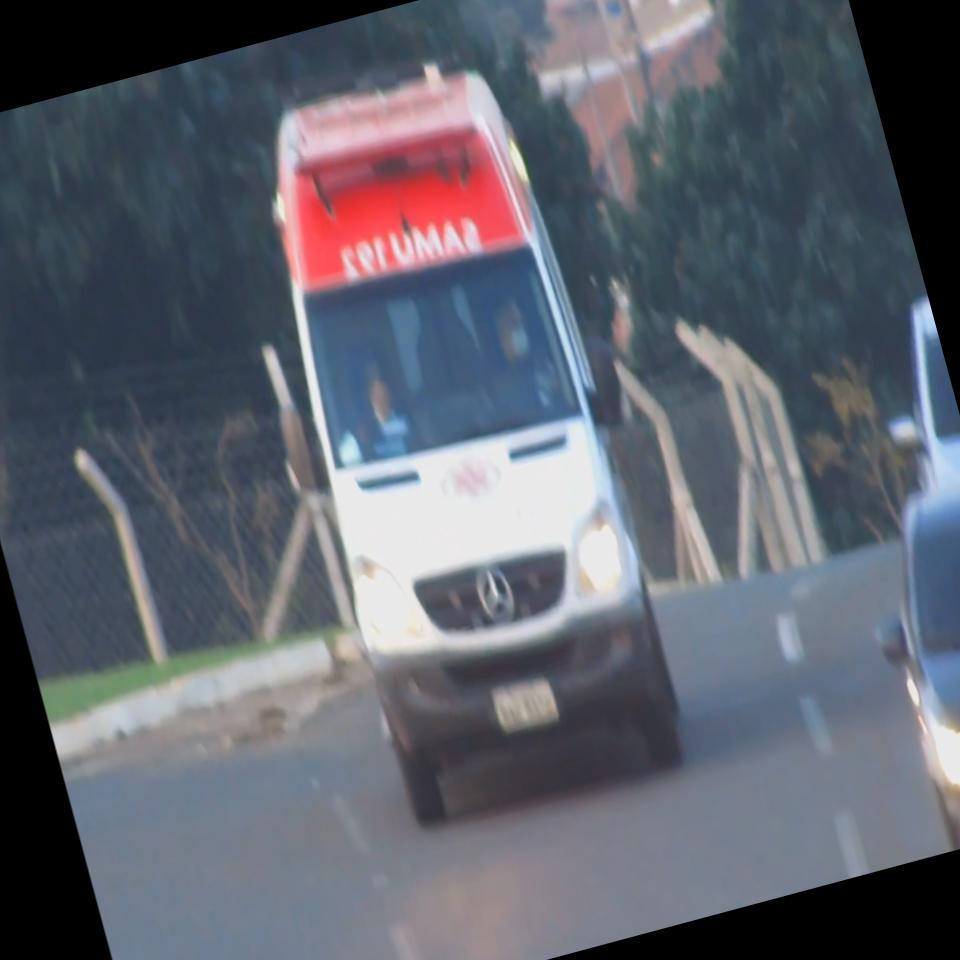bombeiro: (197, 38, 722, 844)
